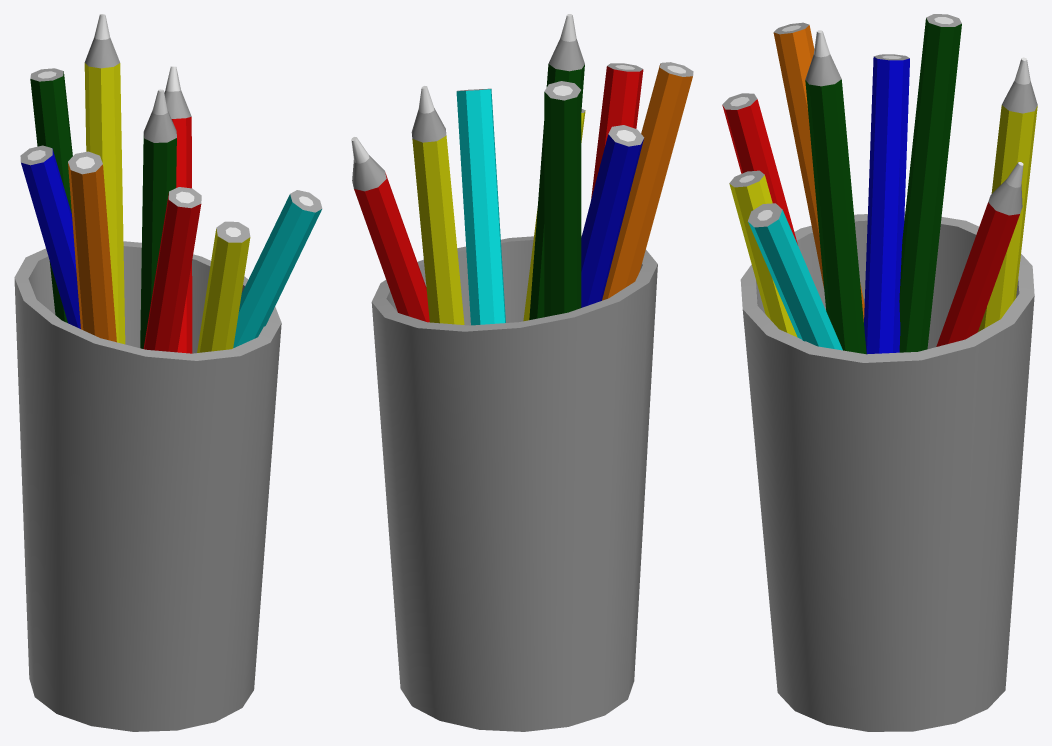
File: GlassWithPencils.fbx
The picture shows the model from 3 angles, left to right: view 1: azimuth 30°, elevation 25°; view 2: azimuth 150°, elevation 25°; view 3: azimuth 270°, elevation 25°; orthographic projection. The views are drawn at different scales.
Parts seen in each view (by area): view 1: GlassWithPencils; view 2: GlassWithPencils; view 3: GlassWithPencils.
Boxes of the visible parts, bbox=[...] form: GlassWithPencils: bbox=[14, 14, 322, 731]; GlassWithPencils: bbox=[351, 14, 693, 731]; GlassWithPencils: bbox=[722, 14, 1037, 731].
Size of the model in its own units: 17.38 by 43.63 by 19.36.
